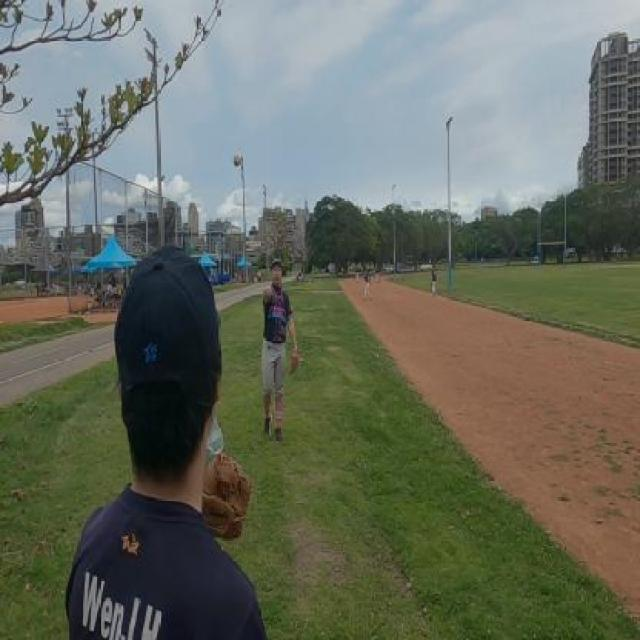baseball: (233, 153, 241, 167)
